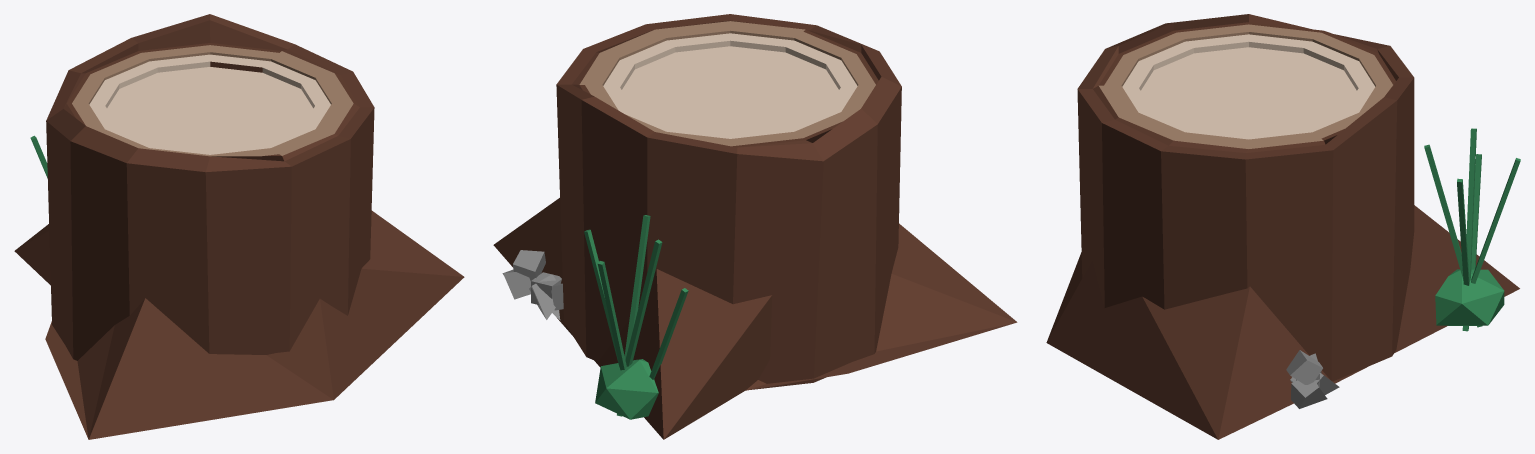
Rendered from pen'.fbx.
The picture shows the model from 3 angles, left to right: view 1: azimuth 30°, elevation 25°; view 2: azimuth 150°, elevation 25°; view 3: azimuth 270°, elevation 25°; orthographic projection. The views are drawn at different scales.
Visible parts, largest first — view 1: Icosphere; view 2: Icosphere, Icosphere.001, Cube.005; view 3: Icosphere, Icosphere.001, Cube.005.
Part boxes in pixels (x1=…): Icosphere: x1=14, y1=14, x2=464, y2=439; Icosphere: x1=493, y1=14, x2=1017, y2=439; Icosphere.001: x1=584, y1=215, x2=688, y2=419; Cube.005: x1=502, y1=250, x2=563, y2=320; Icosphere: x1=1046, y1=14, x2=1519, y2=439; Icosphere.001: x1=1424, y1=128, x2=1520, y2=331; Cube.005: x1=1286, y1=350, x2=1339, y2=408.
Size of the model in its own units: 319 by 180 by 286.
